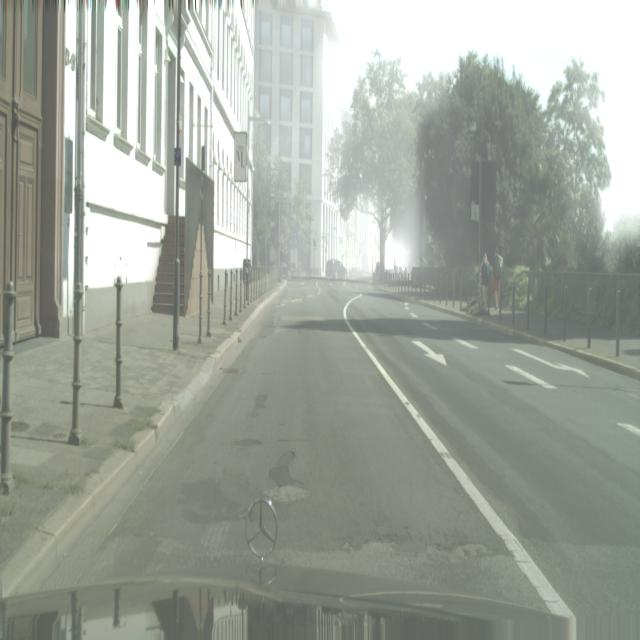person: (491, 249, 503, 316), (480, 252, 491, 312)
truck: (326, 258, 347, 280)
